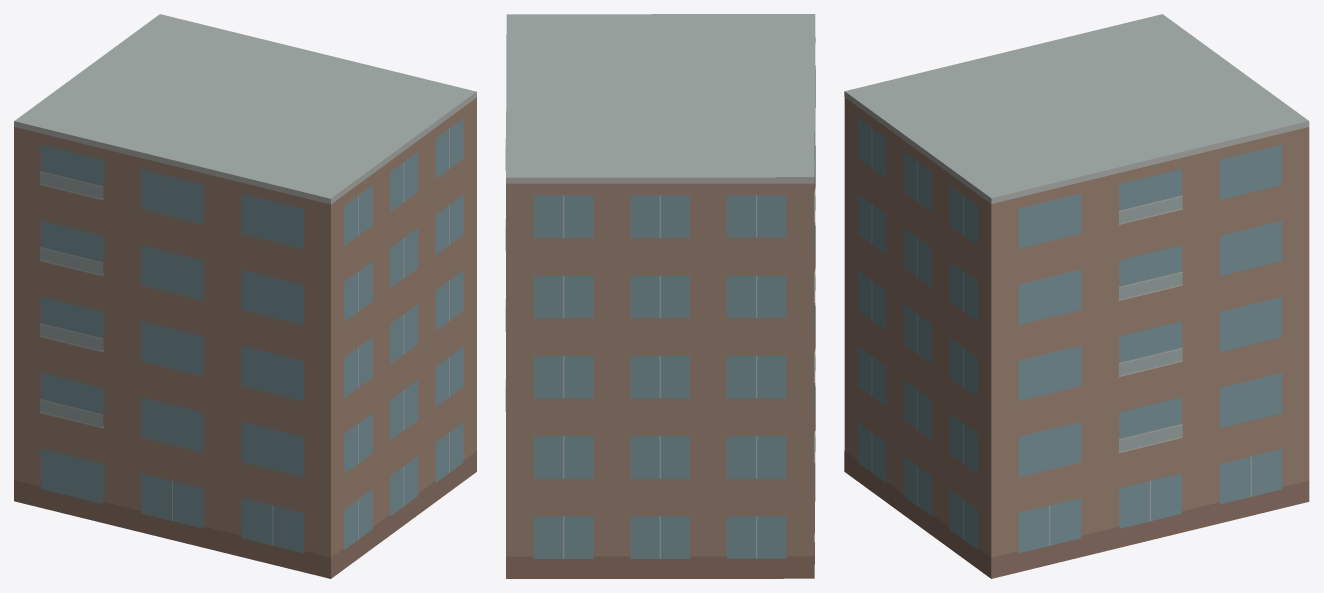
Rendered from survey-upis-32988970.glb.
3 renders of one model, left to right at view 1: azimuth 30°, elevation 25°; view 2: azimuth 150°, elevation 25°; view 3: azimuth 270°, elevation 25°, orthographic. The views are drawn at different scales.
Visible parts, largest first — view 1: survey-upis-32988970.tmp; view 2: survey-upis-32988970.tmp; view 3: survey-upis-32988970.tmp.
Boxes of the visible parts, x1,y1,x2,y2 form: survey-upis-32988970.tmp: (14,14,476,578); survey-upis-32988970.tmp: (505,14,815,578); survey-upis-32988970.tmp: (844,14,1309,578).
Size of the model in its own units: 16.78 by 16.15 by 17.88.
